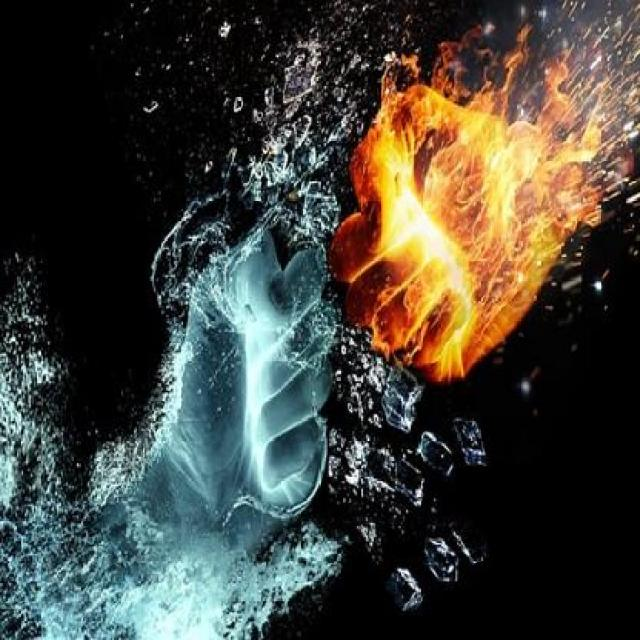fire: (311, 28, 640, 289)
